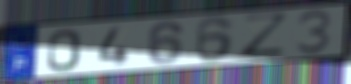0: (46, 27, 85, 73)
3: (295, 9, 334, 55)
4: (96, 25, 133, 67)
6: (194, 15, 235, 65), (146, 20, 185, 66)
Z: (239, 11, 293, 61)
